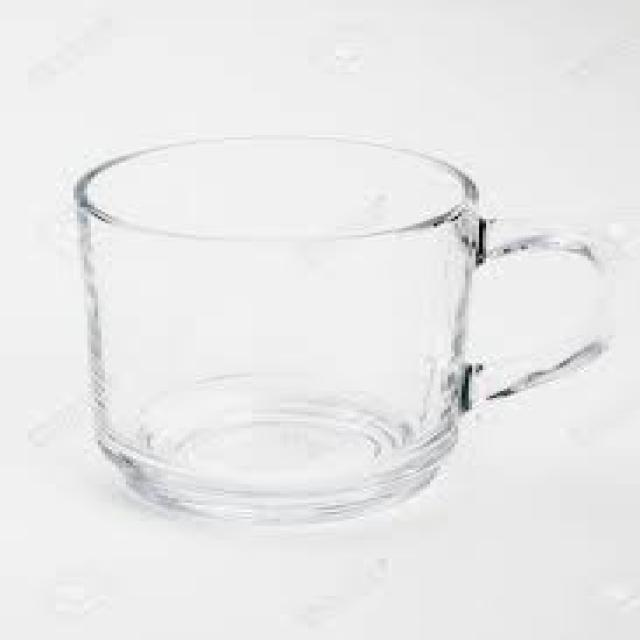glass: (77, 137, 612, 519)
